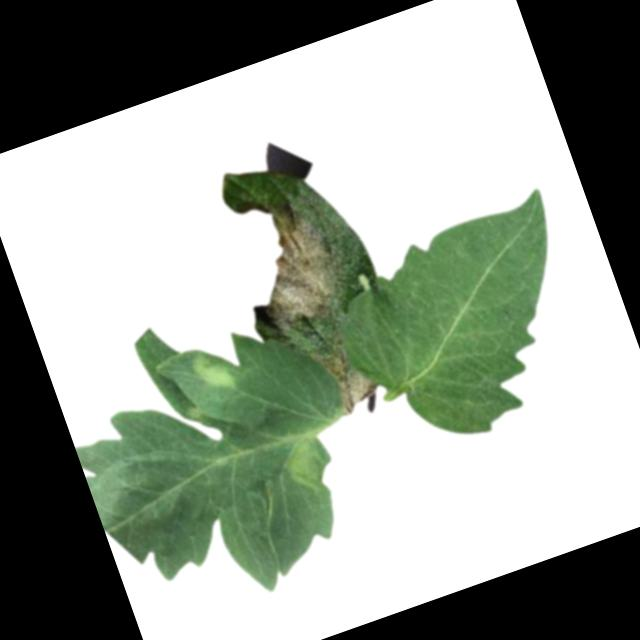Late_blight: (223, 194, 355, 345), (311, 335, 383, 421), (275, 425, 338, 496), (188, 340, 242, 399)
healthy: (315, 185, 611, 468)
